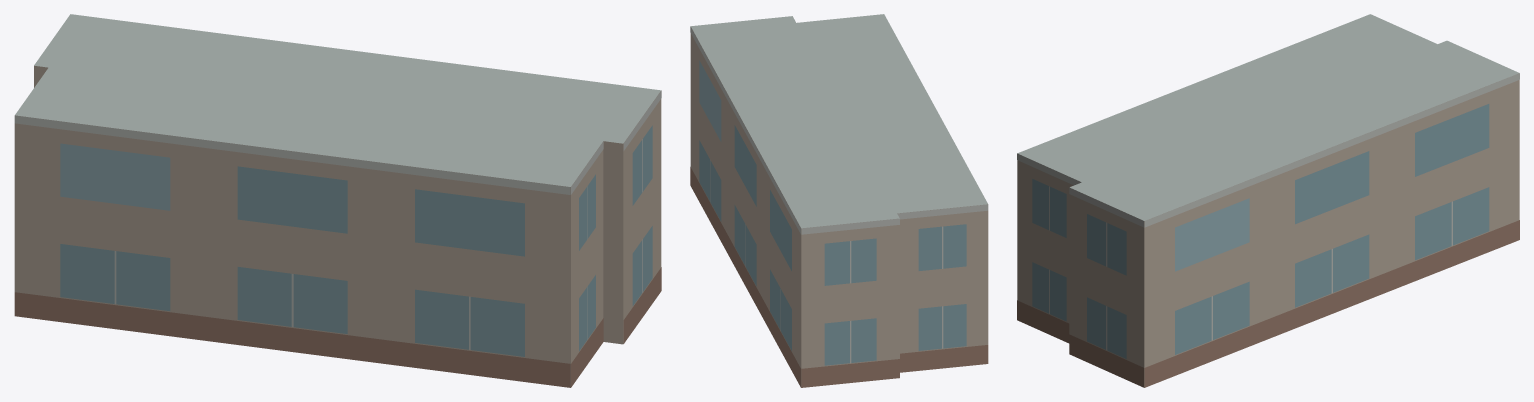
The model's file is survey-upis-32772021.glb.
3 views of the same model, side by side, from view 1: azimuth 30°, elevation 25°; view 2: azimuth 150°, elevation 25°; view 3: azimuth 270°, elevation 25° (orthographic). The views are drawn at different scales.
Visible parts, largest first — view 1: survey-upis-32772021.tmp; view 2: survey-upis-32772021.tmp; view 3: survey-upis-32772021.tmp.
Boxes of the visible parts, x1,y1,x2,y2 form: survey-upis-32772021.tmp: [14, 14, 661, 387]; survey-upis-32772021.tmp: [690, 14, 988, 387]; survey-upis-32772021.tmp: [1017, 14, 1519, 387].
Bounding box in the file's own units: 16.24 × 6.1 × 16.66.
